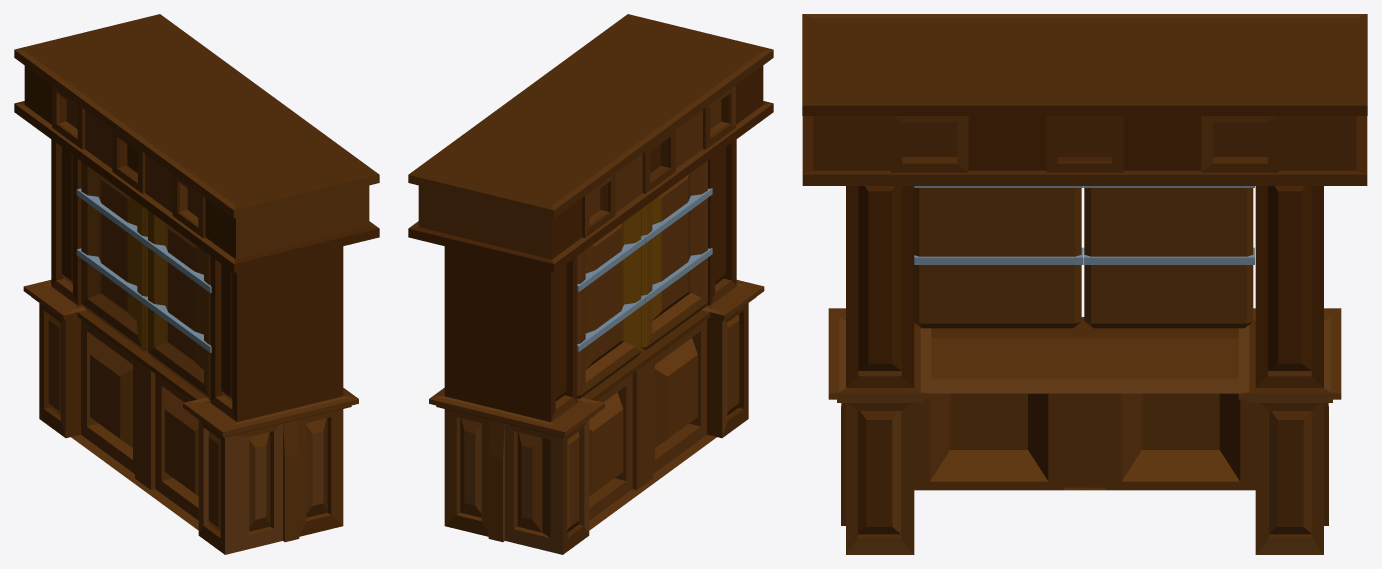
Rendered from castle_town_interior_closet.fbx.
The picture shows the model from 3 angles, left to right: view 1: azimuth 30°, elevation 25°; view 2: azimuth 150°, elevation 25°; view 3: azimuth 270°, elevation 25°; orthographic projection. The views are drawn at different scales.
Visible parts, largest first — view 1: closet.001; view 2: closet.001; view 3: closet.001.
Part boxes in pixels (x1,y1,x2,y2): closet.001: [14, 14, 379, 554]; closet.001: [408, 14, 773, 554]; closet.001: [802, 14, 1367, 554].
Bounding box in the file's own units: 1814 × 1635 × 699.
